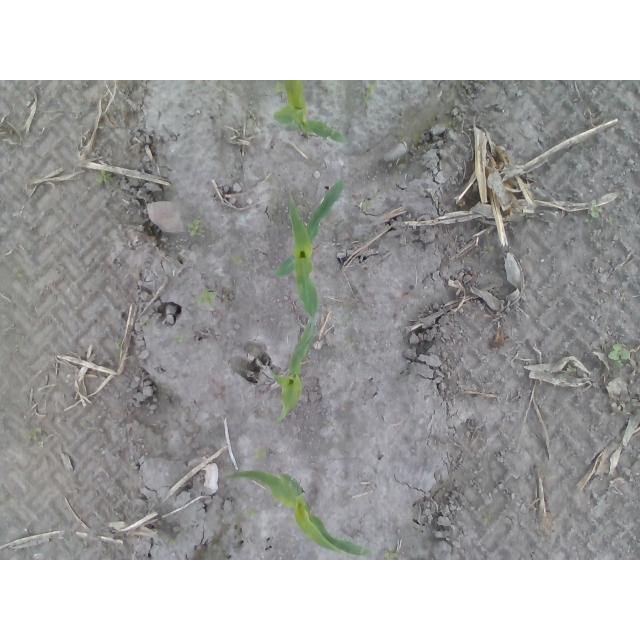Maize: (225, 470, 376, 558), (276, 181, 345, 346), (273, 80, 347, 144), (270, 324, 314, 425), (315, 80, 378, 102)
Weeds: (609, 343, 632, 369), (195, 290, 217, 311), (187, 220, 206, 237), (589, 200, 603, 219), (96, 170, 113, 184), (384, 545, 399, 560), (27, 427, 41, 441), (252, 448, 266, 461), (273, 80, 287, 93), (244, 506, 256, 519), (362, 201, 374, 212), (10, 267, 22, 278), (114, 337, 122, 352), (230, 255, 242, 265), (164, 535, 176, 545), (173, 333, 184, 343), (483, 244, 494, 253), (483, 513, 492, 522), (139, 318, 149, 326), (568, 365, 577, 372), (7, 497, 14, 504)
